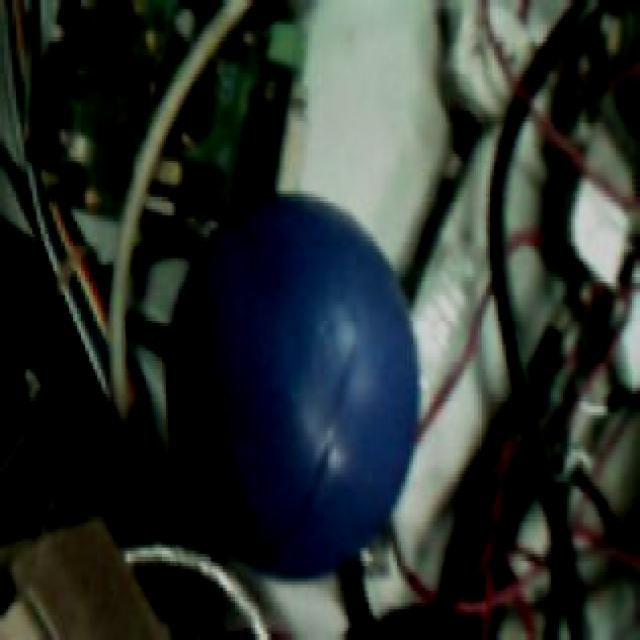BallPurple: (169, 196, 420, 580)
